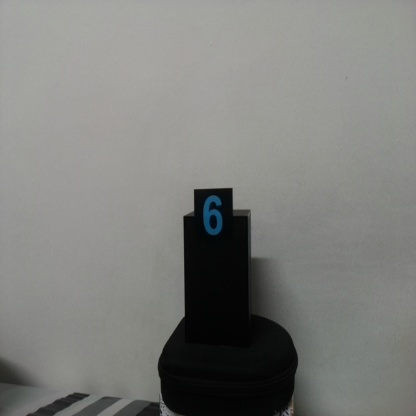id_6: (194, 190, 234, 250)
